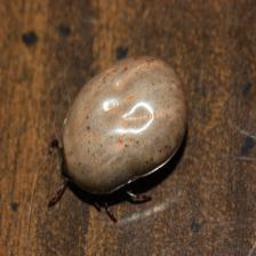Dermacentor variabilis: (48, 55, 191, 219)
